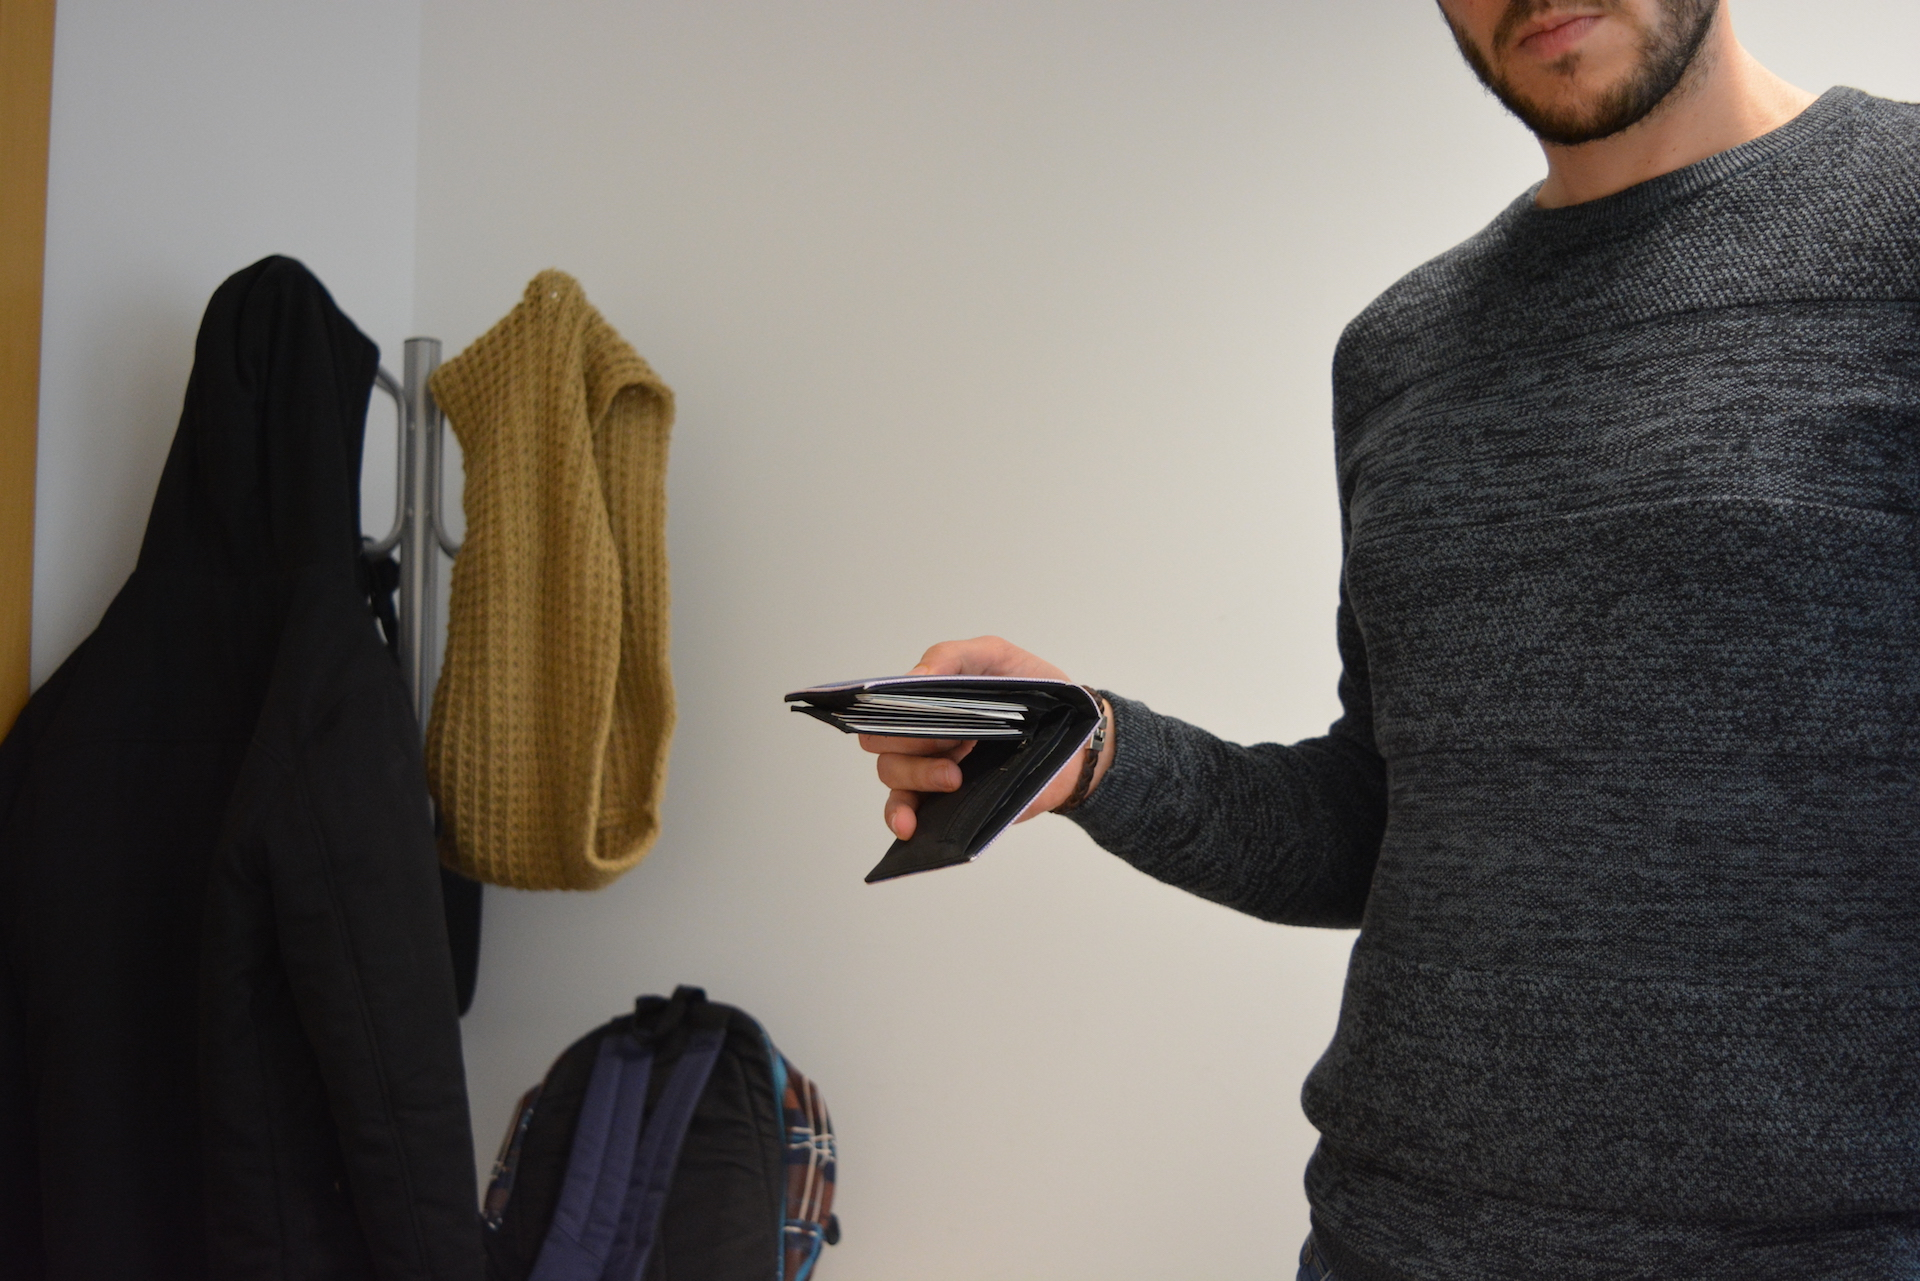monedero: (782, 673, 1104, 888)
